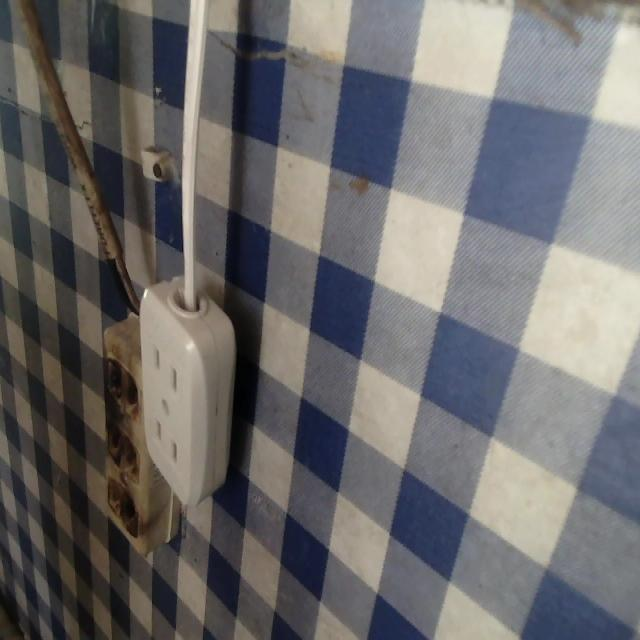-: (102, 421, 143, 484), (103, 348, 138, 404), (116, 489, 140, 539)
